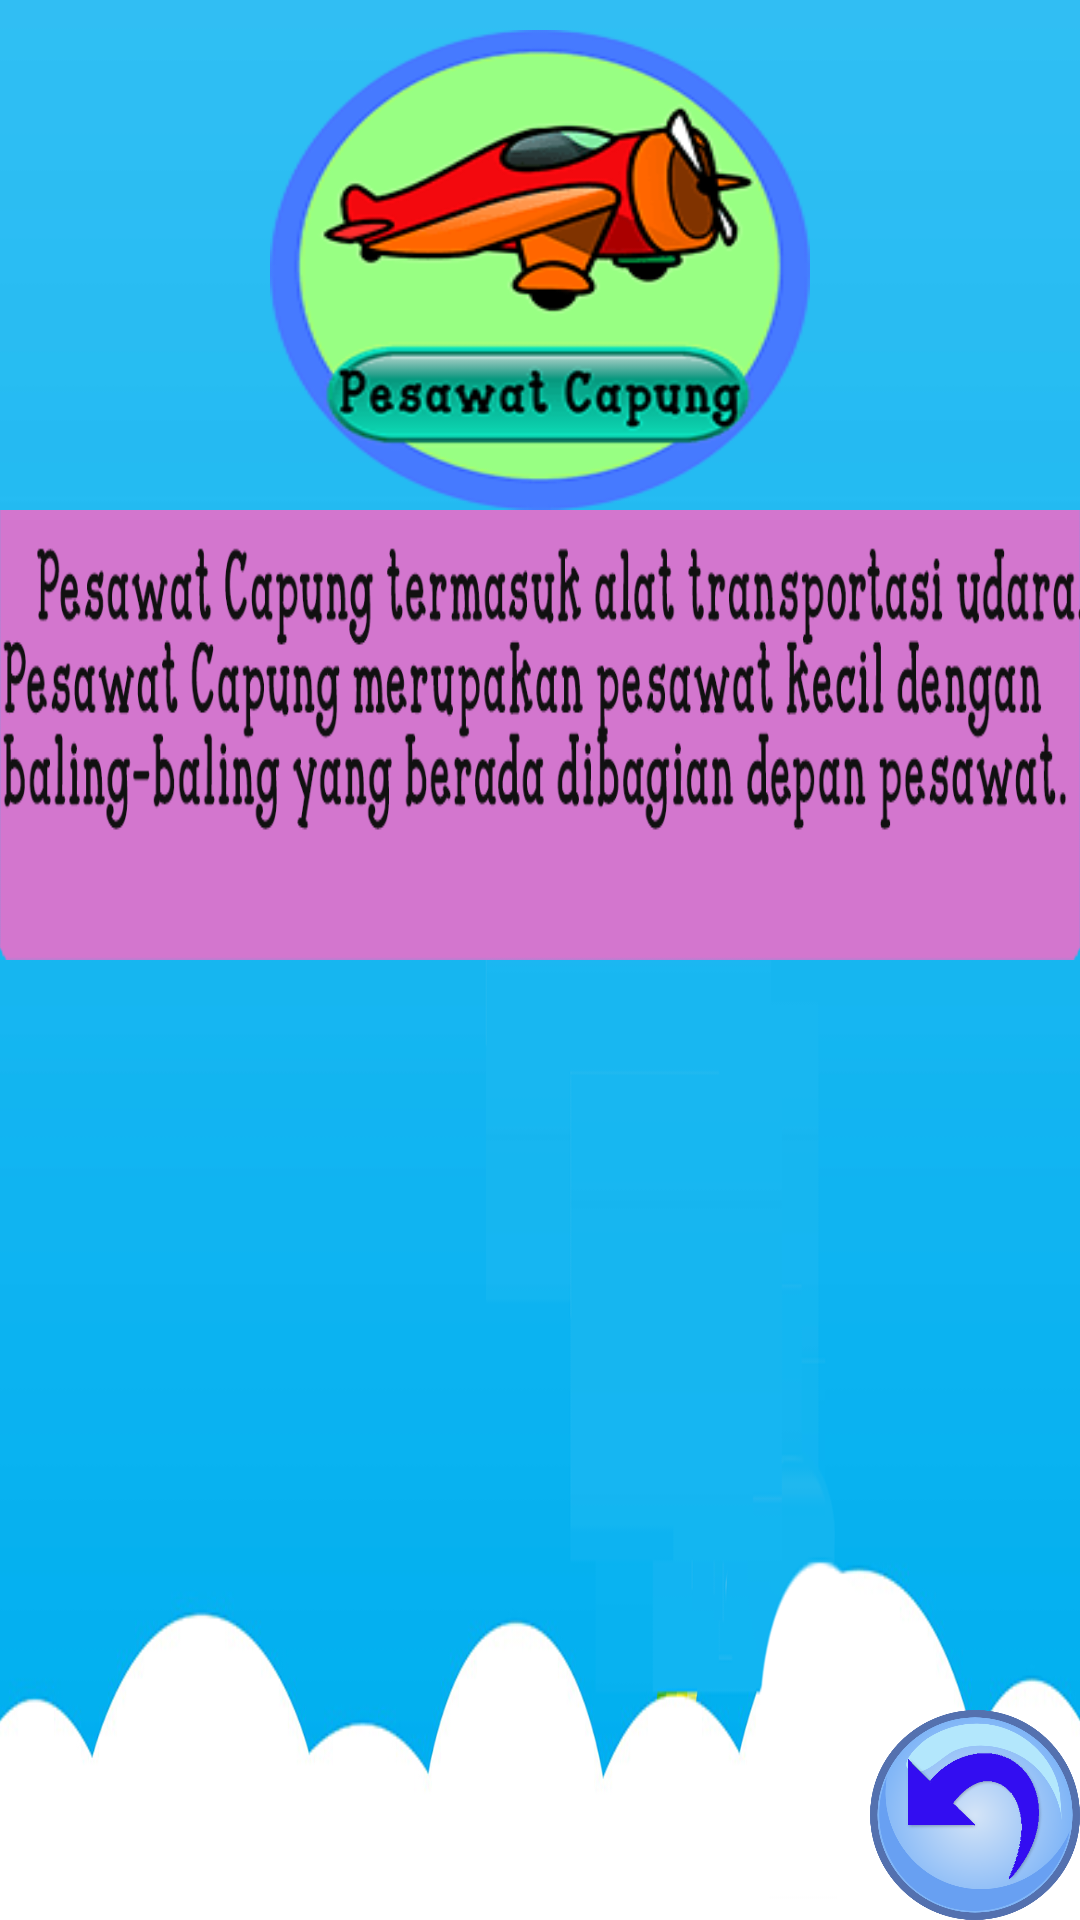

Screen size 1080px x 1920px. Icon name, then its center in pixels as [x,y]:
back: [975,1815]
